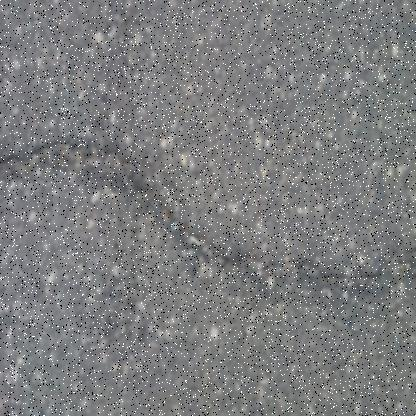Cracks: (0, 123, 415, 304)
